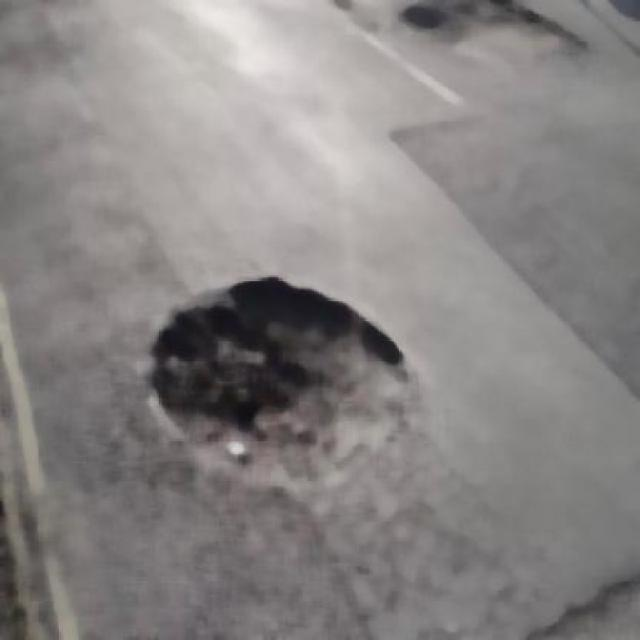pothole: (150, 274, 419, 495)
